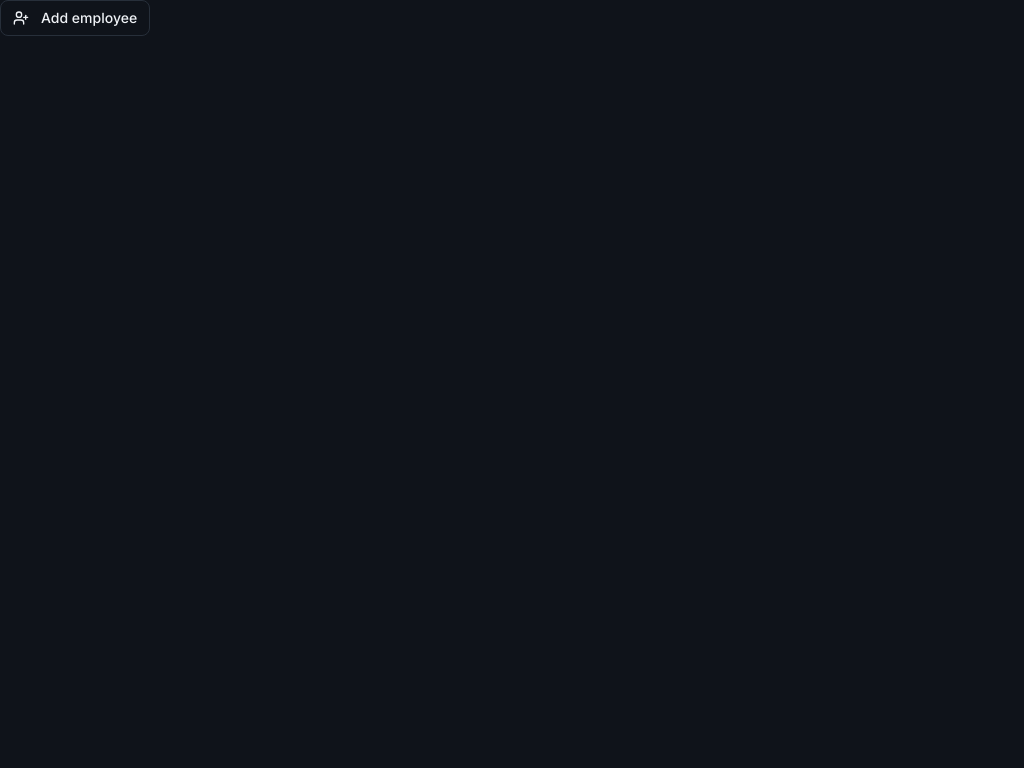
Test: AddEmployeeDialog › will not save on top of a lookalike until somebody says it is not them
Later steps or results of the test are not shown.
Click the button "Add employee" at (75,18), box [0, 0, 150, 36]
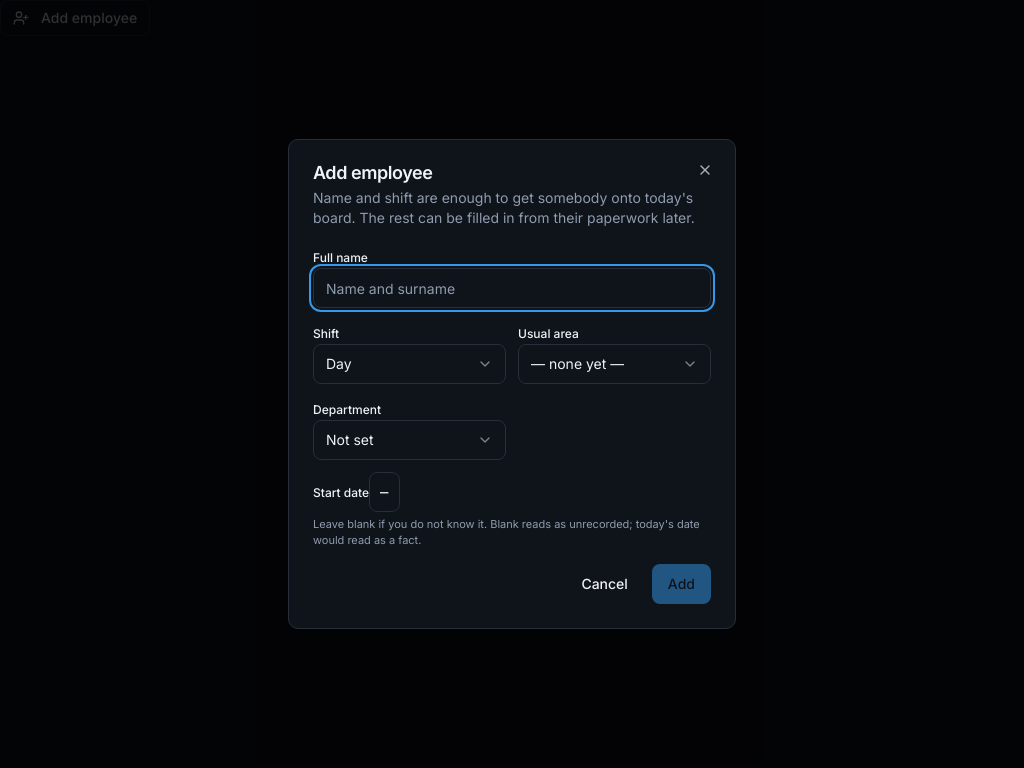
Type "Felipe Araujo" into the field labelled "Full name" at (512,288), box [313, 268, 711, 308]
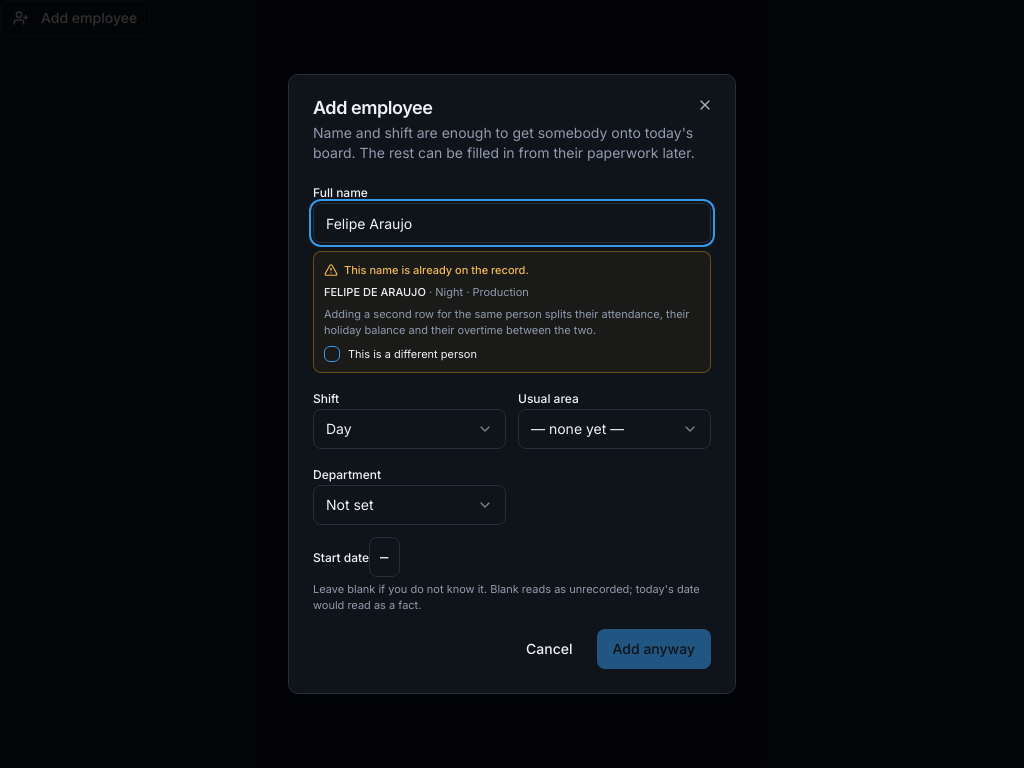
Result: the button "Add anyway" is disabled
Click the button "Add anyway" at (654,649), box [596, 629, 711, 669]
Click the checkbox named "different person" at (332,354), box [324, 346, 340, 362]
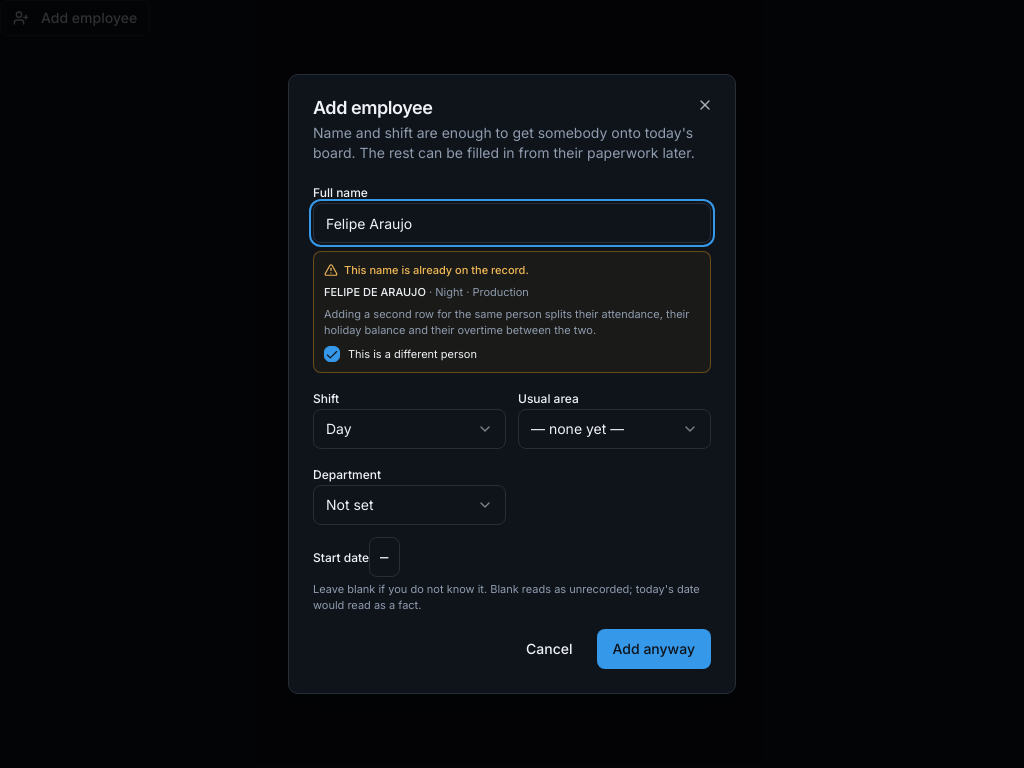
Result: the button "Add anyway" is enabled at [596, 629, 711, 669]
